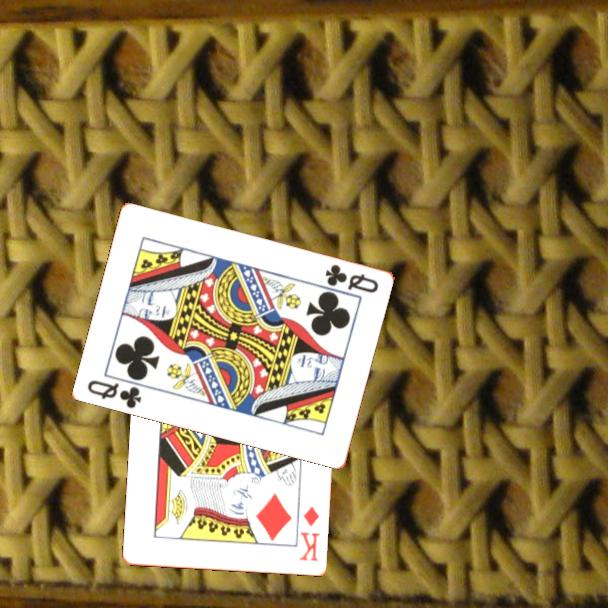c12: (84, 376, 145, 411), (322, 261, 382, 296)
d13: (296, 503, 323, 564)
